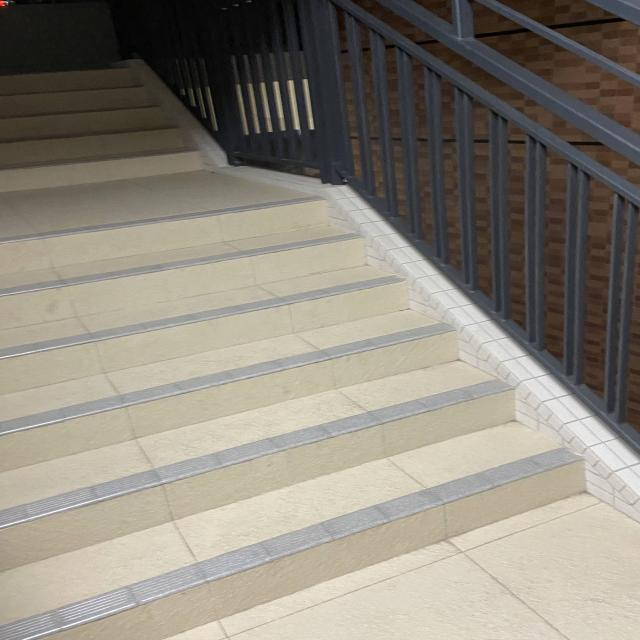Stairs: (0, 202, 593, 640), (0, 62, 223, 205)
